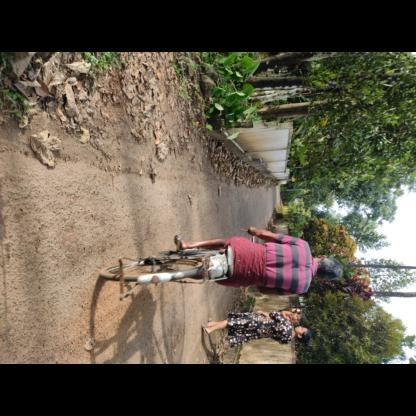Bicycle: (100, 223, 275, 314)
